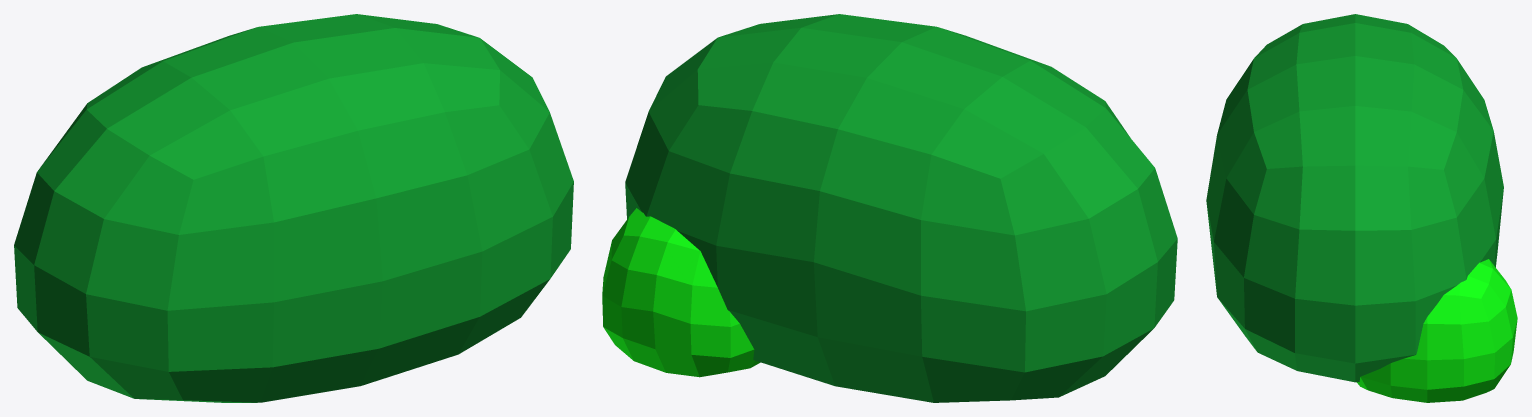
The model's file is GrassThree.glb.
3 renders of one model, left to right at view 1: azimuth 30°, elevation 25°; view 2: azimuth 150°, elevation 25°; view 3: azimuth 270°, elevation 25°, orthographic. The views are drawn at different scales.
Visible parts, largest first — view 1: GrassThree; view 2: GrassThree; view 3: GrassThree.
Boxes of the visible parts, bbox=[...] form: GrassThree: bbox=[14, 14, 573, 402]; GrassThree: bbox=[602, 14, 1177, 402]; GrassThree: bbox=[1206, 14, 1517, 402].
Size of the model in its own units: 22.67 by 13.36 by 14.1.
